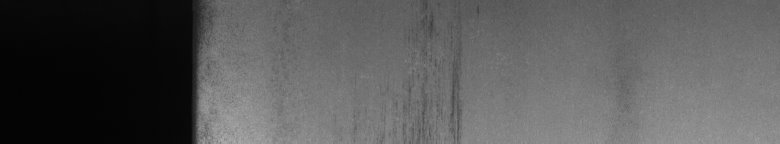ka: (354, 4, 480, 136)
